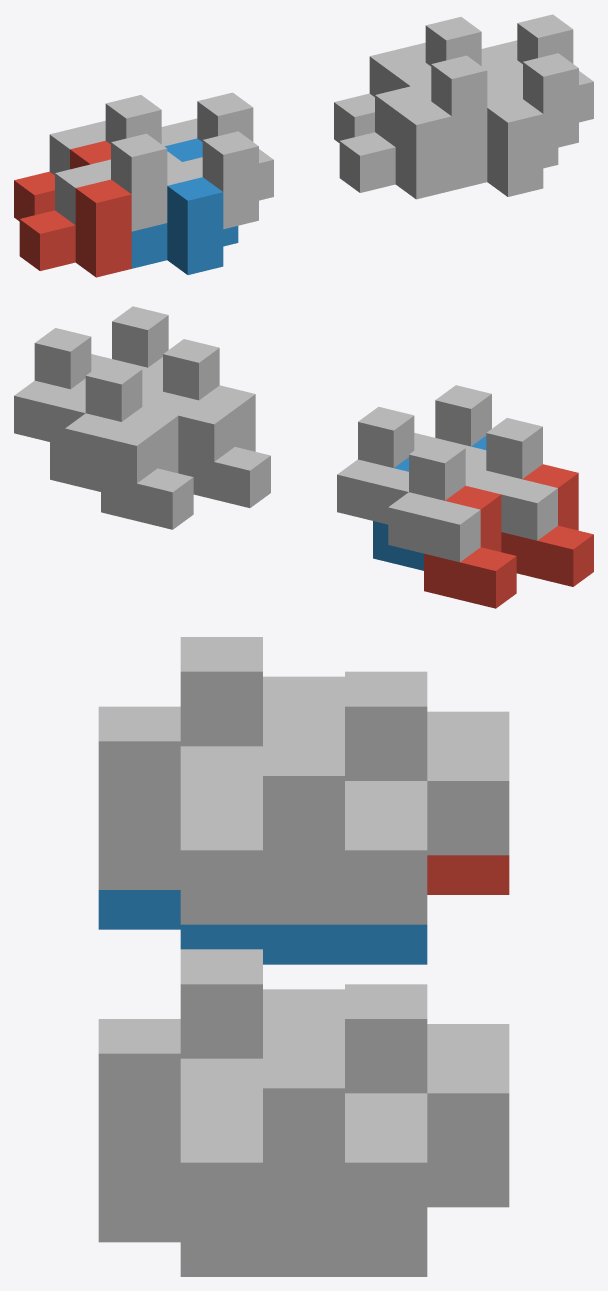
File: tiling.obj
The picture shows the model from 3 angles, top to bottom: view 1: azimuth 30°, elevation 25°; view 2: azimuth 150°, elevation 25°; view 3: azimuth 270°, elevation 25°; orthographic projection. The views are drawn at different scales.
Parts seen in each view (by area): view 1: copy_1_domain_5, copy_1_domain_1, copy_1_domain_3, copy_1_domain_7, copy_1_domain_4, copy_1_domain_8, copy_1_domain_6, copy_1_domain_2; view 2: copy_1_domain_7, copy_1_domain_3, copy_1_domain_5, copy_1_domain_1, copy_1_domain_4, copy_1_domain_8, copy_1_domain_2, copy_1_domain_6; view 3: copy_1_domain_8, copy_1_domain_4, copy_1_domain_3, copy_1_domain_7, copy_1_domain_6, copy_1_domain_2, copy_1_domain_5, copy_1_domain_1.
Boxes of the visible parts, x1,y1,x2,y2 form: copy_1_domain_5: (334,62,451,199); copy_1_domain_1: (14,141,131,277); copy_1_domain_3: (49,95,181,231); copy_1_domain_7: (369,17,501,153); copy_1_domain_4: (161,92,273,229); copy_1_domain_8: (481,14,593,151); copy_1_domain_6: (451,60,558,196); copy_1_domain_2: (131,138,238,274); copy_1_domain_7: (65,339,234,483); copy_1_domain_3: (388,418,557,562); copy_1_domain_5: (101,385,270,529); copy_1_domain_1: (424,464,593,608); copy_1_domain_4: (337,385,491,524); copy_1_domain_8: (14,306,168,445); copy_1_domain_2: (373,436,486,570); copy_1_domain_6: (50,357,162,491); copy_1_domain_8: (98,1019,427,1237); copy_1_domain_4: (98,706,427,924); copy_1_domain_3: (180,637,509,855); copy_1_domain_7: (180,949,509,1167); copy_1_domain_6: (98,1202,427,1276); copy_1_domain_2: (98,890,427,964); copy_1_domain_5: (427,1167,509,1207); copy_1_domain_1: (427,855,509,894).
Size of the model in its own units: 15 by 3 by 5.
